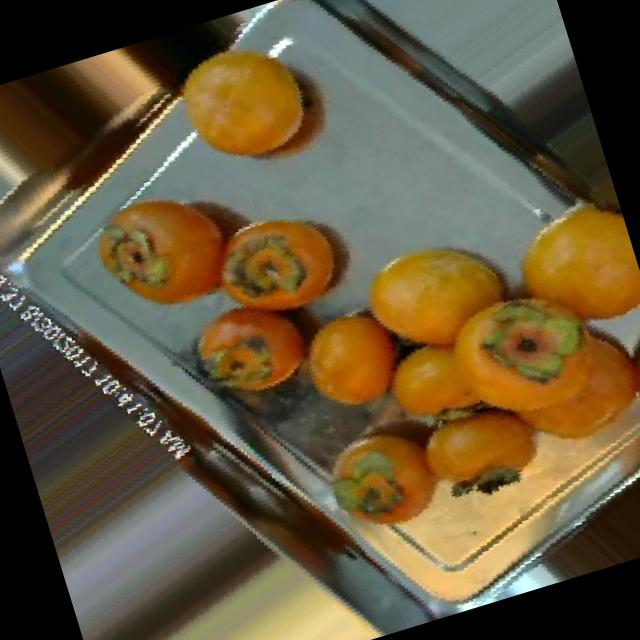Fruit: (56, 133, 309, 354), (137, 0, 369, 214), (331, 201, 546, 390), (156, 264, 352, 440), (475, 177, 640, 367), (268, 272, 442, 438)
